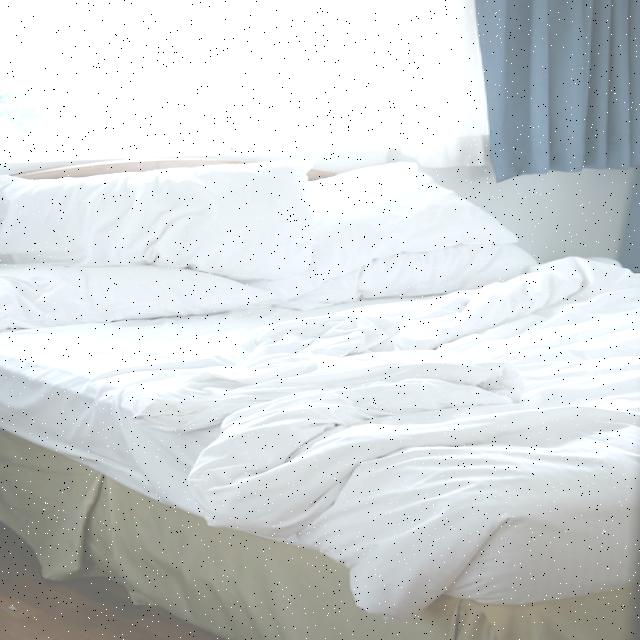bed: (3, 150, 640, 606)
